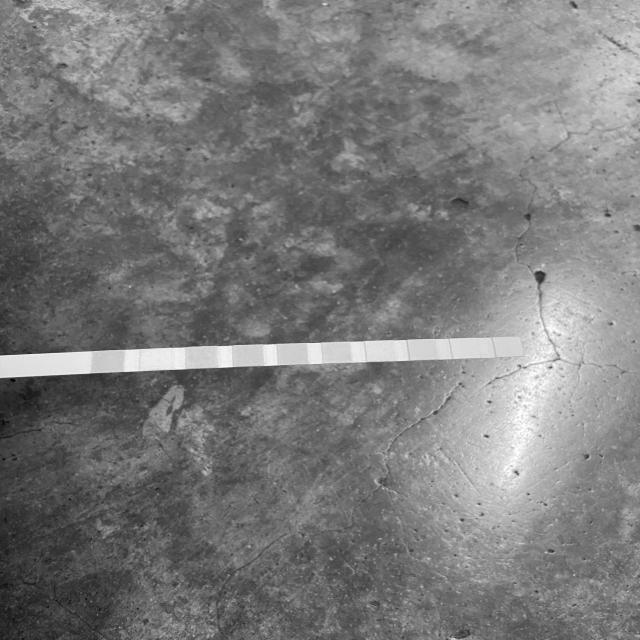Bilirubin: (140, 350, 170, 370)
Blood: (278, 345, 306, 364)
Glucose: (93, 352, 123, 372)
Ketone: (187, 348, 218, 367)
Leukocytes: (497, 338, 521, 357)
Nitrite: (454, 339, 476, 357)
Protein: (369, 341, 395, 361)
SpGravity: (234, 346, 264, 366)
Urobilinogen: (412, 340, 436, 359)
background: (0, 0, 640, 640)
pH: (323, 343, 351, 362)
strip: (0, 337, 525, 378)
